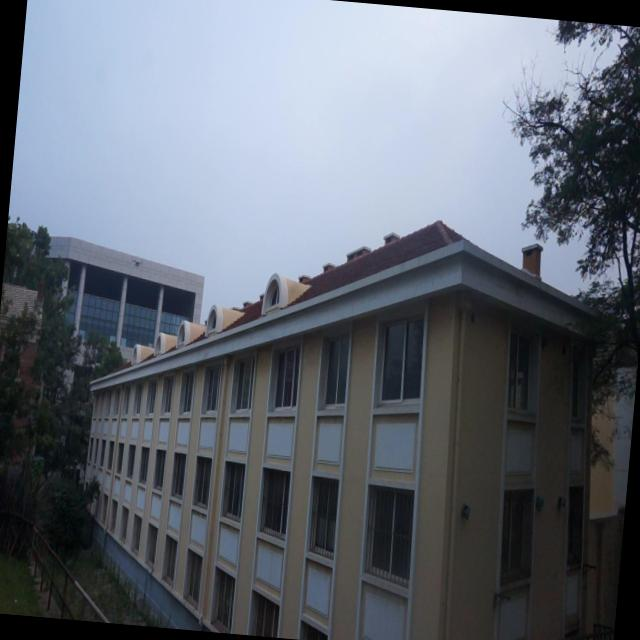drone: (132, 256, 142, 270)
